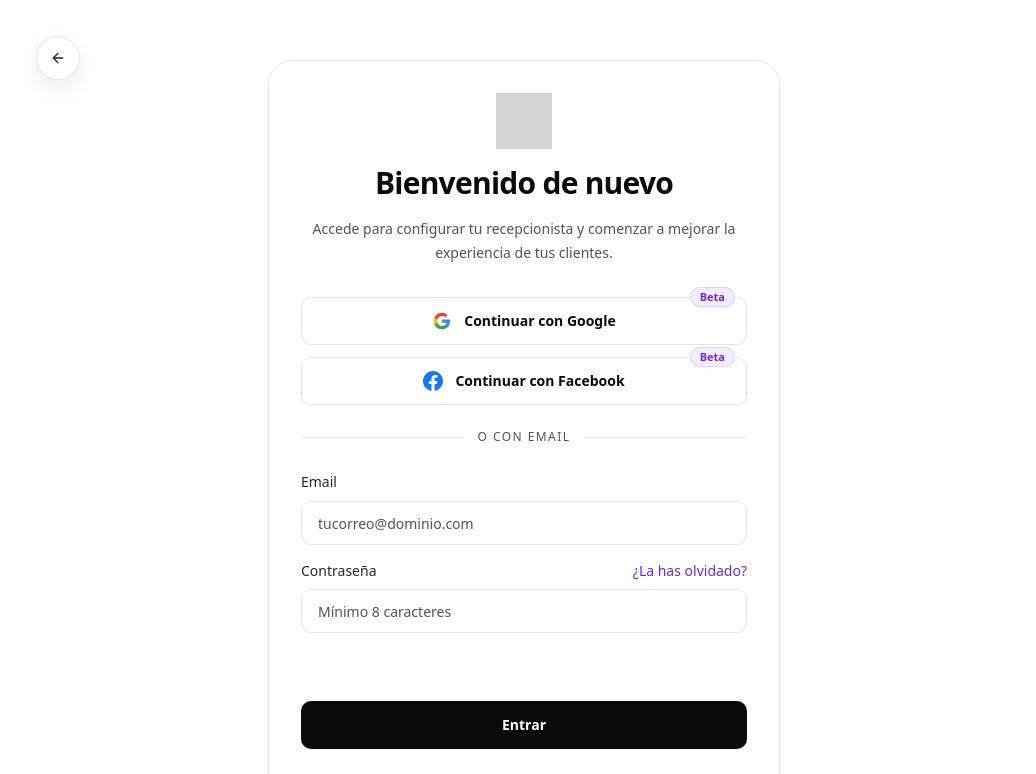
Test case: LoginPage › muestra un error específico si las credenciales son incorrectas (401)
In the field with placeholder "tucorreo@dominio.com": (524, 523) [301,501,747,545], type "ana@example.com"
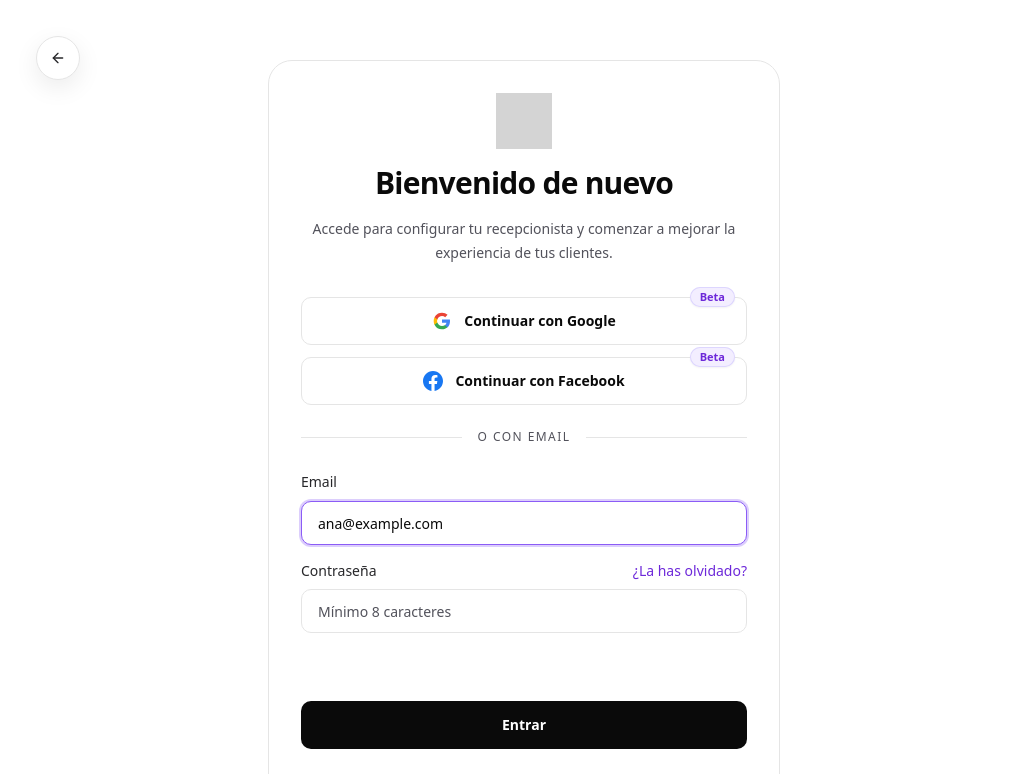
In the password field with placeholder "Mínimo 8 caracteres": (524, 611) [301,589,747,633], type "wrong"
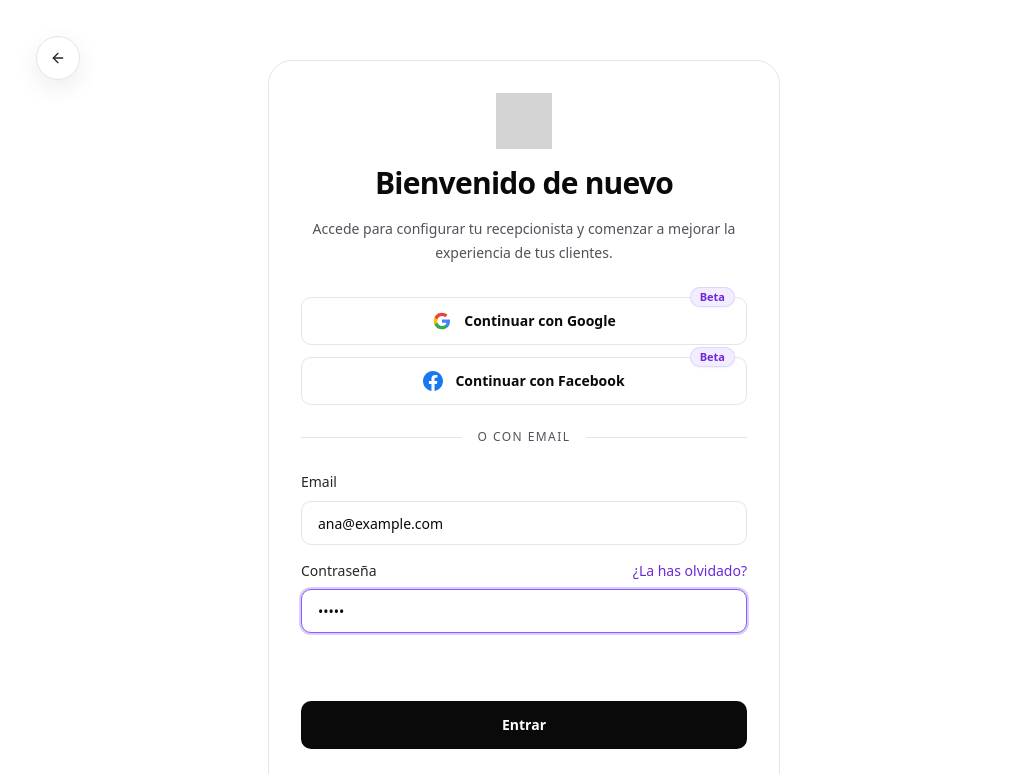
Click the button "Entrar": (524, 725) [301,701,747,749]
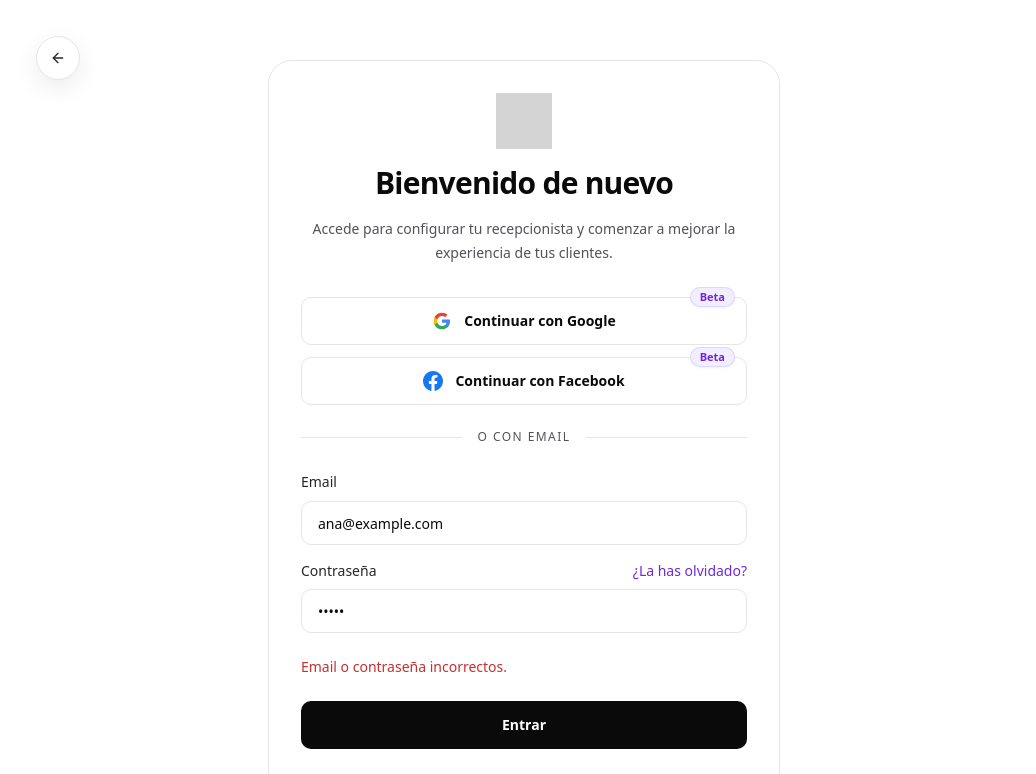
Expected: the text "Email o contraseña incorrectos." is shown, [301,657,507,676]
